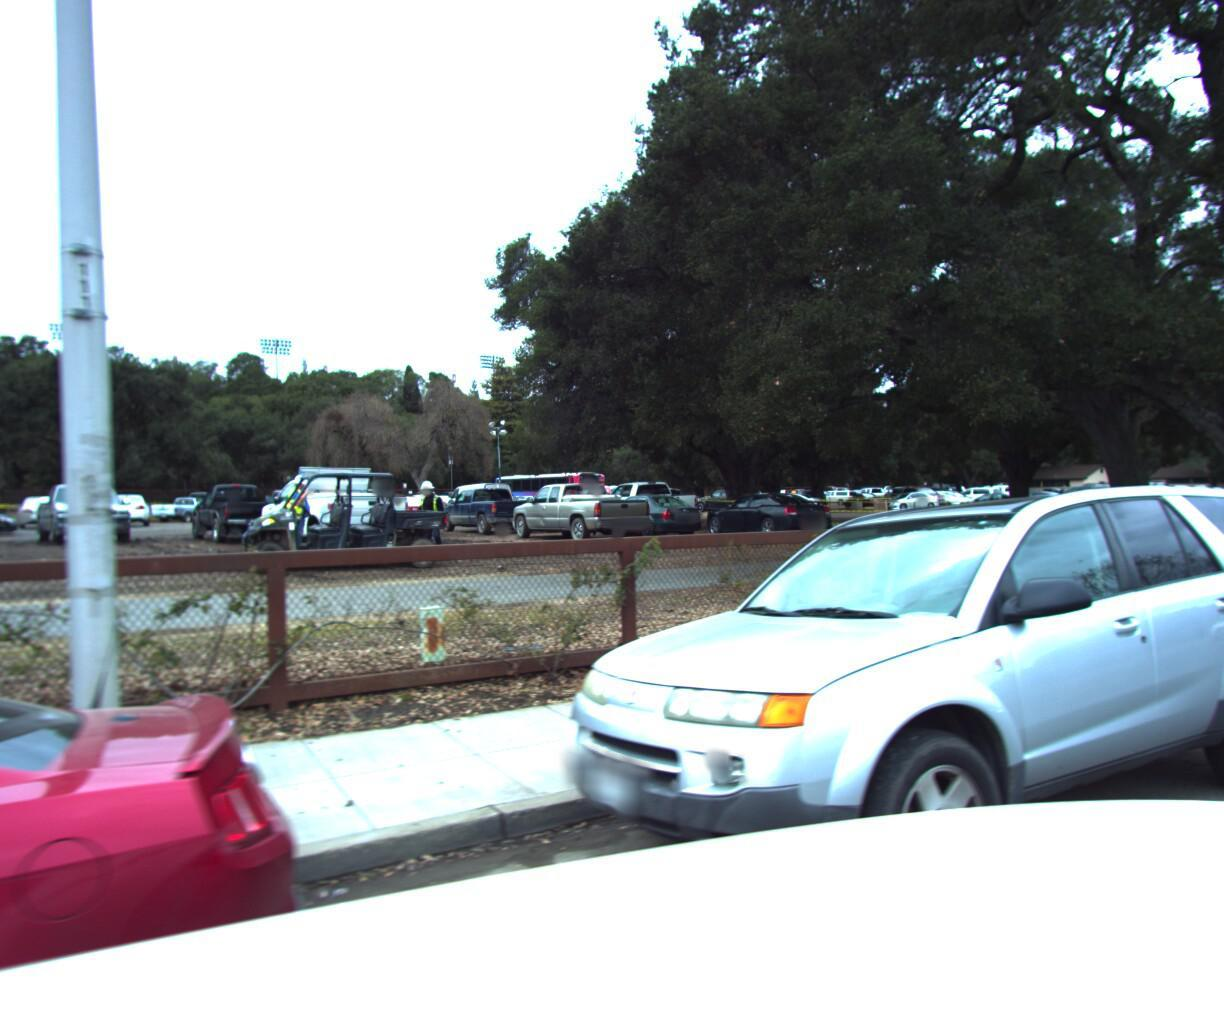car: (503, 467, 1224, 1024), (1195, 488, 1224, 740)
